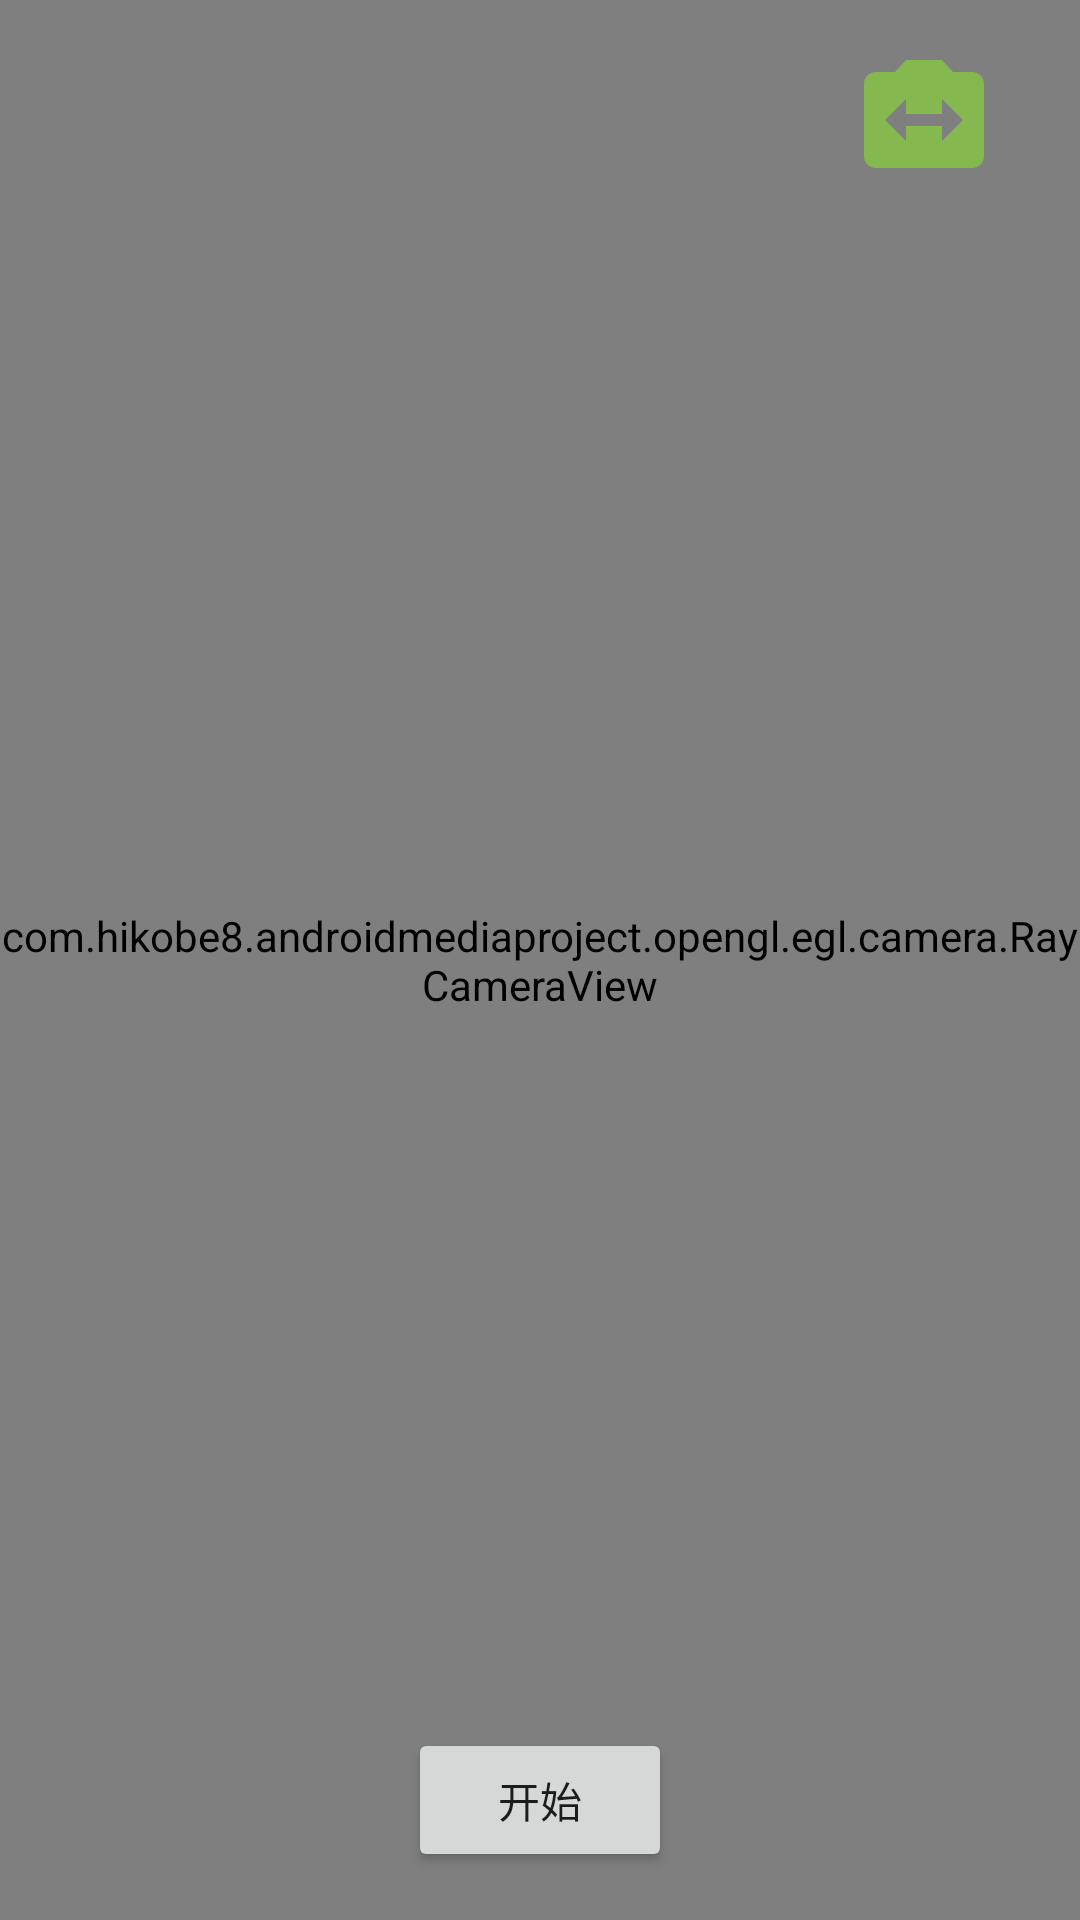

Icon click points for this 1080x1920 phone screenshot, format point (x, y):
switch: point (924, 114)
